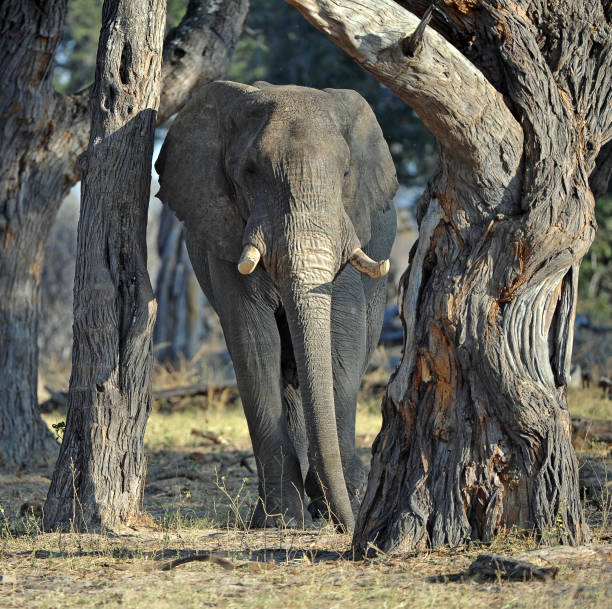africanelephant: (201, 103, 398, 318)
